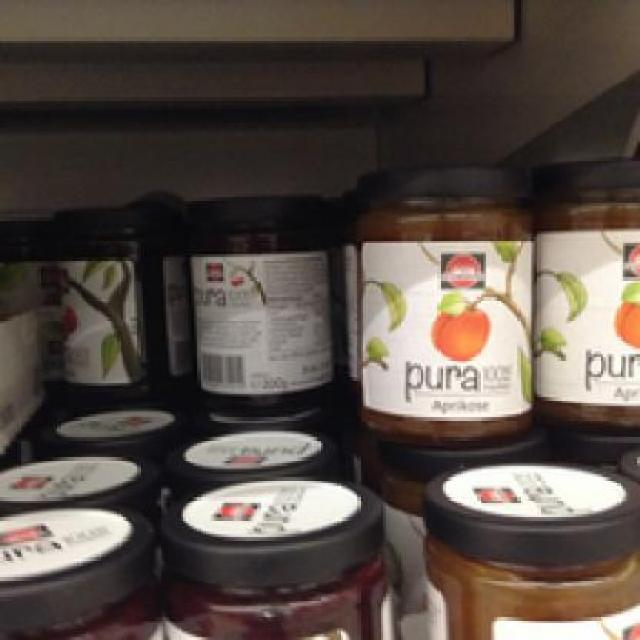Jam: (354, 162, 537, 438), (420, 454, 634, 637), (157, 474, 397, 637), (179, 190, 335, 404), (537, 154, 637, 426), (48, 202, 185, 395)
